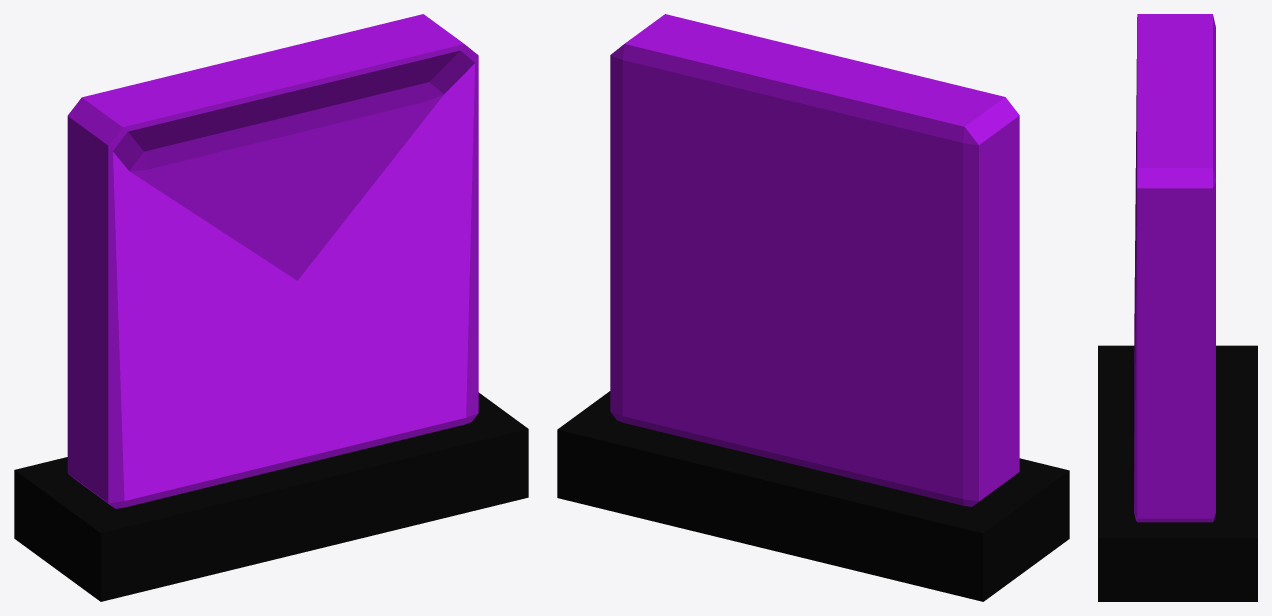
The model's file is messageboard 2.fbx.
3 renders of one model, left to right at view 1: azimuth 30°, elevation 25°; view 2: azimuth 150°, elevation 25°; view 3: azimuth 270°, elevation 25°, orthographic. The views are drawn at different scales.
Parts seen in each view (by area): view 1: Cube; view 2: Cube; view 3: Cube.
Part boxes in pixels (left/top/right/bottom): Cube: left=14, top=14, right=528, bottom=601; Cube: left=557, top=14, right=1069, bottom=601; Cube: left=1098, top=14, right=1257, bottom=601.
Bounding box in the file's own units: 398 × 399 × 139.
